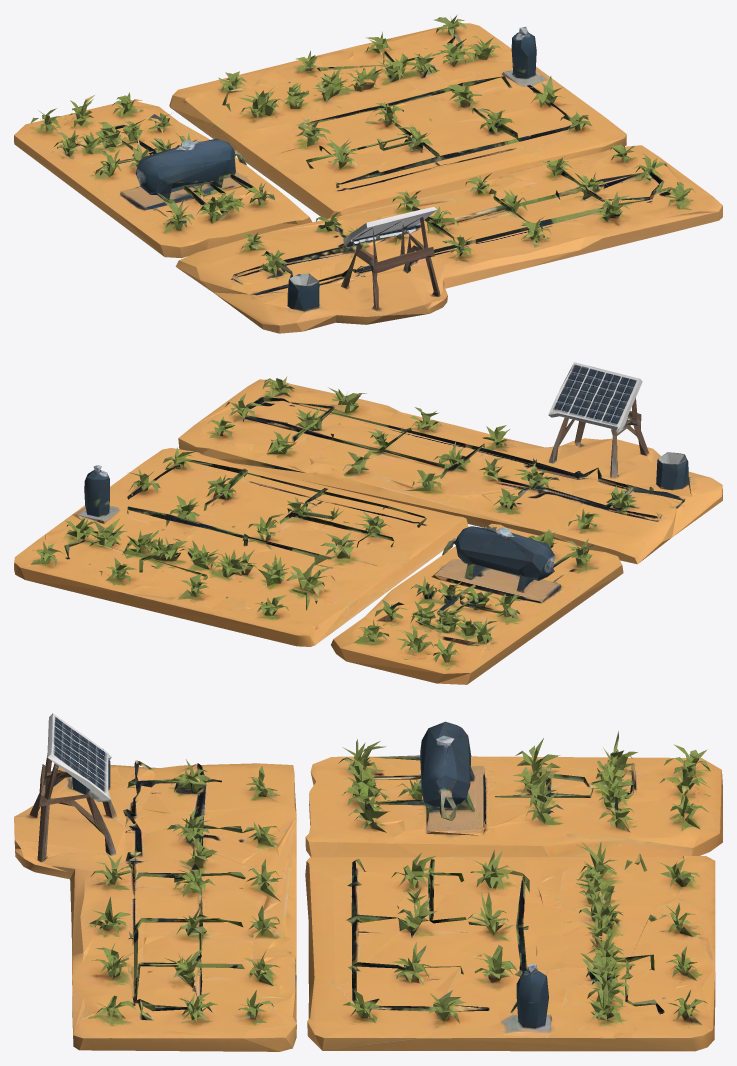
File: farm.glb
3 views of the same model, one above another, from view 1: azimuth 30°, elevation 25°; view 2: azimuth 150°, elevation 25°; view 3: azimuth 270°, elevation 25° (orthographic). The views are drawn at different scales.
Bounding box in the file's own units: 1.79 × 0.3392 × 1.9.
Materials: 1 (1 with a texture image).
